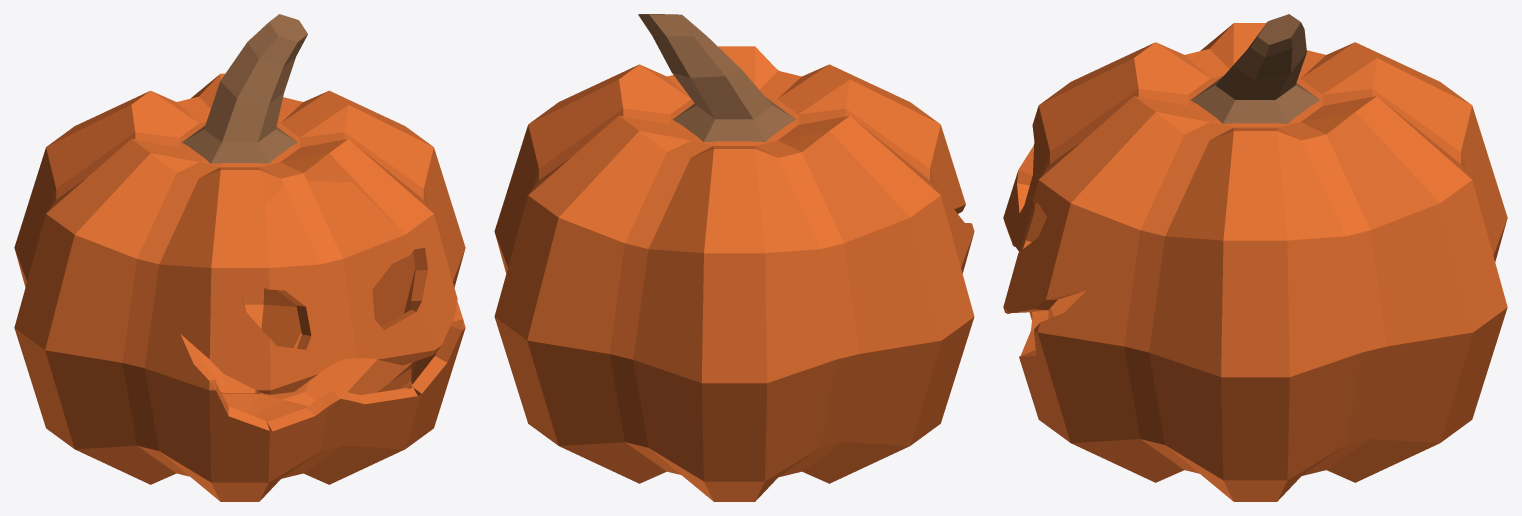
Rendered from Jackie.gltf.
The picture shows the model from 3 angles, left to right: view 1: azimuth 30°, elevation 25°; view 2: azimuth 150°, elevation 25°; view 3: azimuth 270°, elevation 25°; orthographic projection. The views are drawn at different scales.
Visible parts, largest first — view 1: jack, jackstem; view 2: jack, jackstem; view 3: jack, jackstem.
Boxes of the visible parts, left/top/right/bottom form: jack: left=14, top=73, right=465, bottom=501; jackstem: left=182, top=14, right=307, bottom=163; jack: left=494, top=46, right=974, bottom=501; jackstem: left=638, top=14, right=795, bottom=142; jack: left=1003, top=23, right=1507, bottom=501; jackstem: left=1190, top=14, right=1320, bottom=123.
Bounding box in the file's own units: 1.62 × 1.51 × 1.51.
